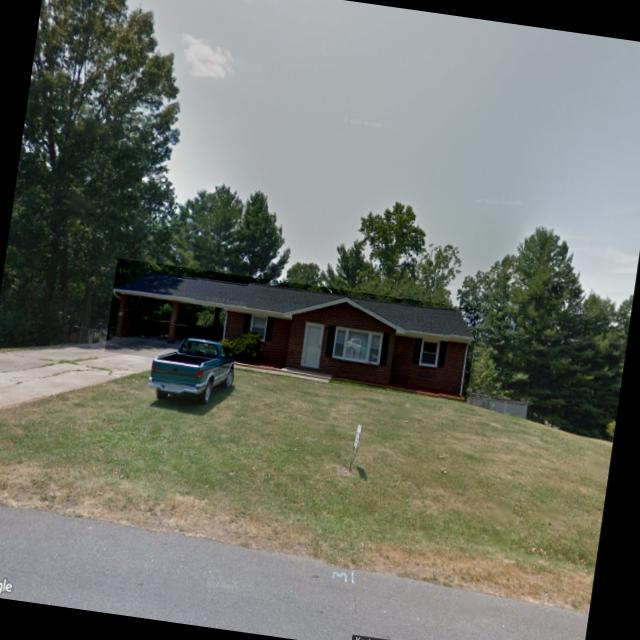House: (104, 258, 480, 402)
